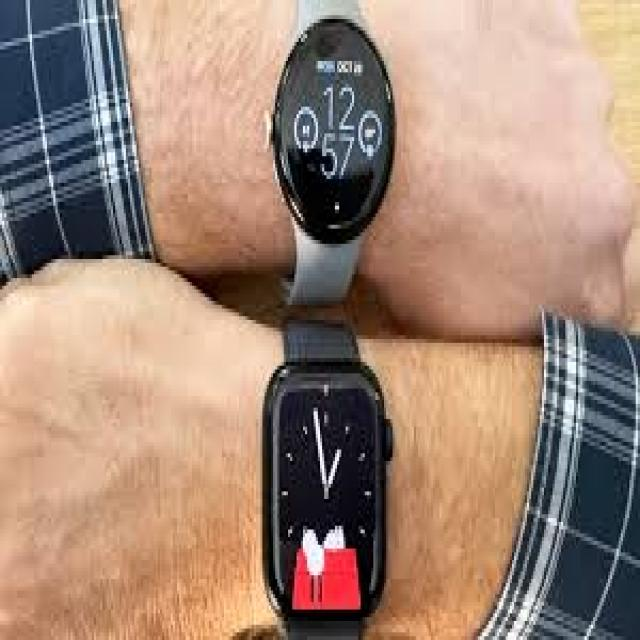objects: (260, 318, 392, 640), (269, 0, 393, 304)
